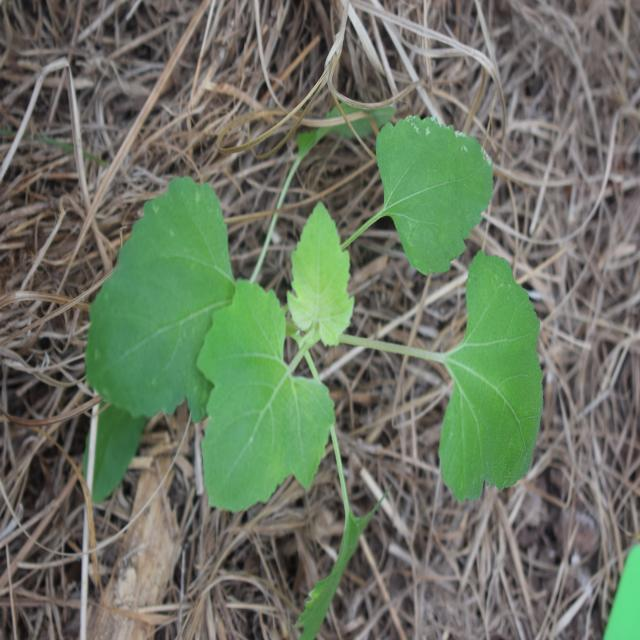cocklebur: (80, 132, 558, 552)
